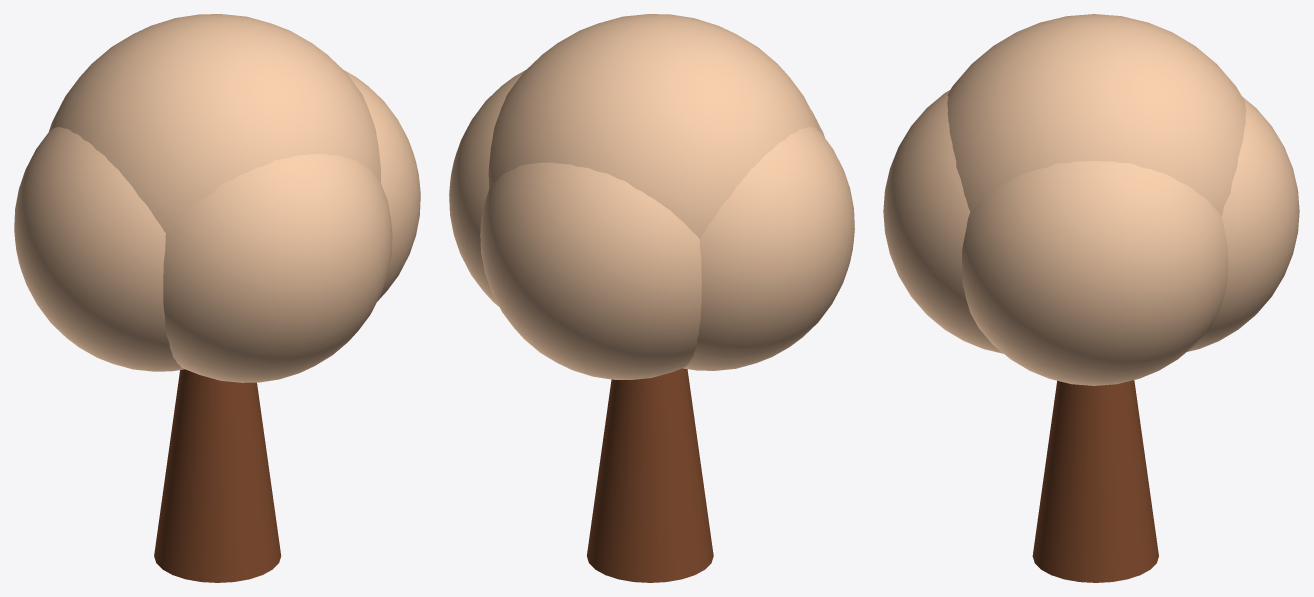
File: SurpriseLv1.glb
3 renders of one model, left to right at view 1: azimuth 30°, elevation 25°; view 2: azimuth 150°, elevation 25°; view 3: azimuth 270°, elevation 25°, orthographic.
Parts seen in each view (by area): view 1: GeoSphere067, GeoSphere071, GeoSphere069, Cone218, GeoSphere068; view 2: GeoSphere067, GeoSphere070, GeoSphere069, Cone218, GeoSphere068; view 3: GeoSphere068, GeoSphere067, Cone218, GeoSphere071, GeoSphere070.
Boxes of the visible parts, x1=… form: GeoSphere067: x1=49, y1=14, x2=381, y2=233; GeoSphere071: x1=163, y1=154, x2=392, y2=382; GeoSphere069: x1=14, y1=127, x2=184, y2=371; Cone218: x1=154, y1=369, x2=281, y2=582; GeoSphere068: x1=344, y1=70, x2=420, y2=301; GeoSphere067: x1=488, y1=14, x2=820, y2=238; GeoSphere070: x1=480, y1=162, x2=701, y2=379; GeoSphere069: x1=683, y1=126, x2=854, y2=370; Cone218: x1=587, y1=368, x2=713, y2=582; GeoSphere068: x1=449, y1=70, x2=525, y2=306; GeoSphere068: x1=962, y1=161, x2=1228, y2=385; GeoSphere067: x1=947, y1=14, x2=1246, y2=216; Cone218: x1=1032, y1=380, x2=1158, y2=582; GeoSphere071: x1=883, y1=90, x2=1003, y2=353; GeoSphere070: x1=1187, y1=97, x2=1299, y2=351.
Bounding box in the file's own units: 0.3704 × 0.5074 × 0.3653.
